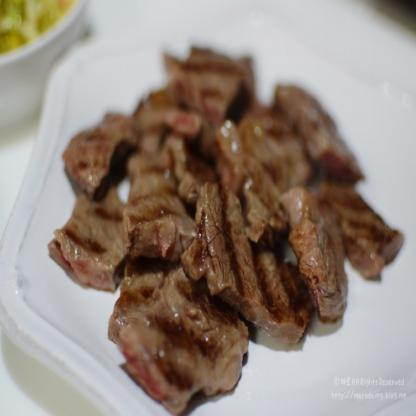Carne: (189, 184, 315, 348), (110, 272, 246, 404), (262, 189, 348, 325), (314, 176, 407, 281), (123, 137, 197, 265), (54, 176, 128, 296), (212, 117, 306, 192), (60, 104, 132, 199)
